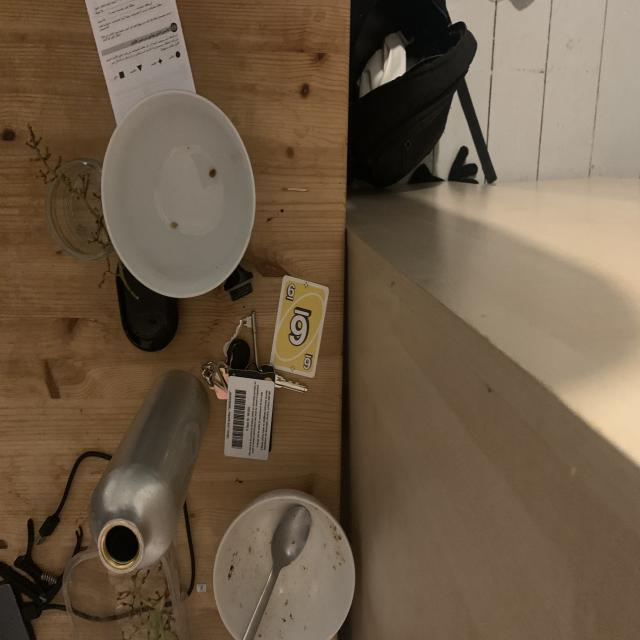lyellow-6: (284, 281, 296, 304)
